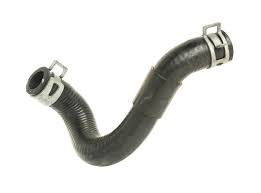radiator_hose: (29, 32, 233, 167)
